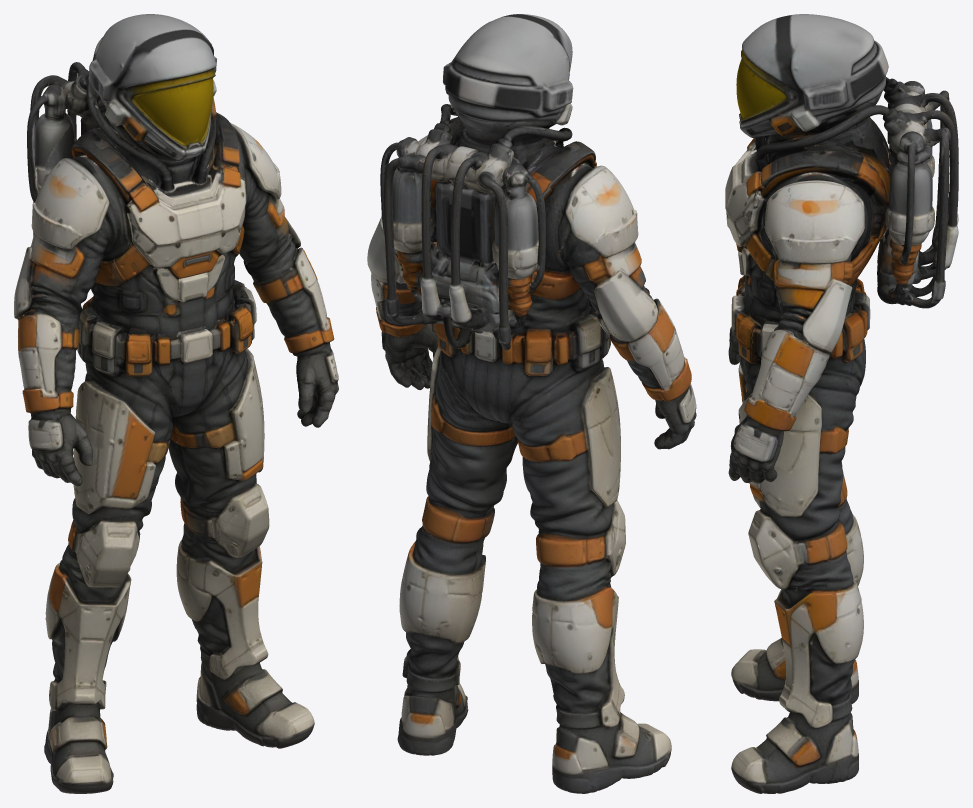
File: astro.glb
The picture shows the model from 3 angles, left to right: view 1: azimuth 30°, elevation 25°; view 2: azimuth 150°, elevation 25°; view 3: azimuth 270°, elevation 25°; orthographic projection. The views are drawn at different scales.
Bounding box in the file's own units: 0.8314 × 1.9 × 0.5626.
Materials: 1 (1 with a texture image).
